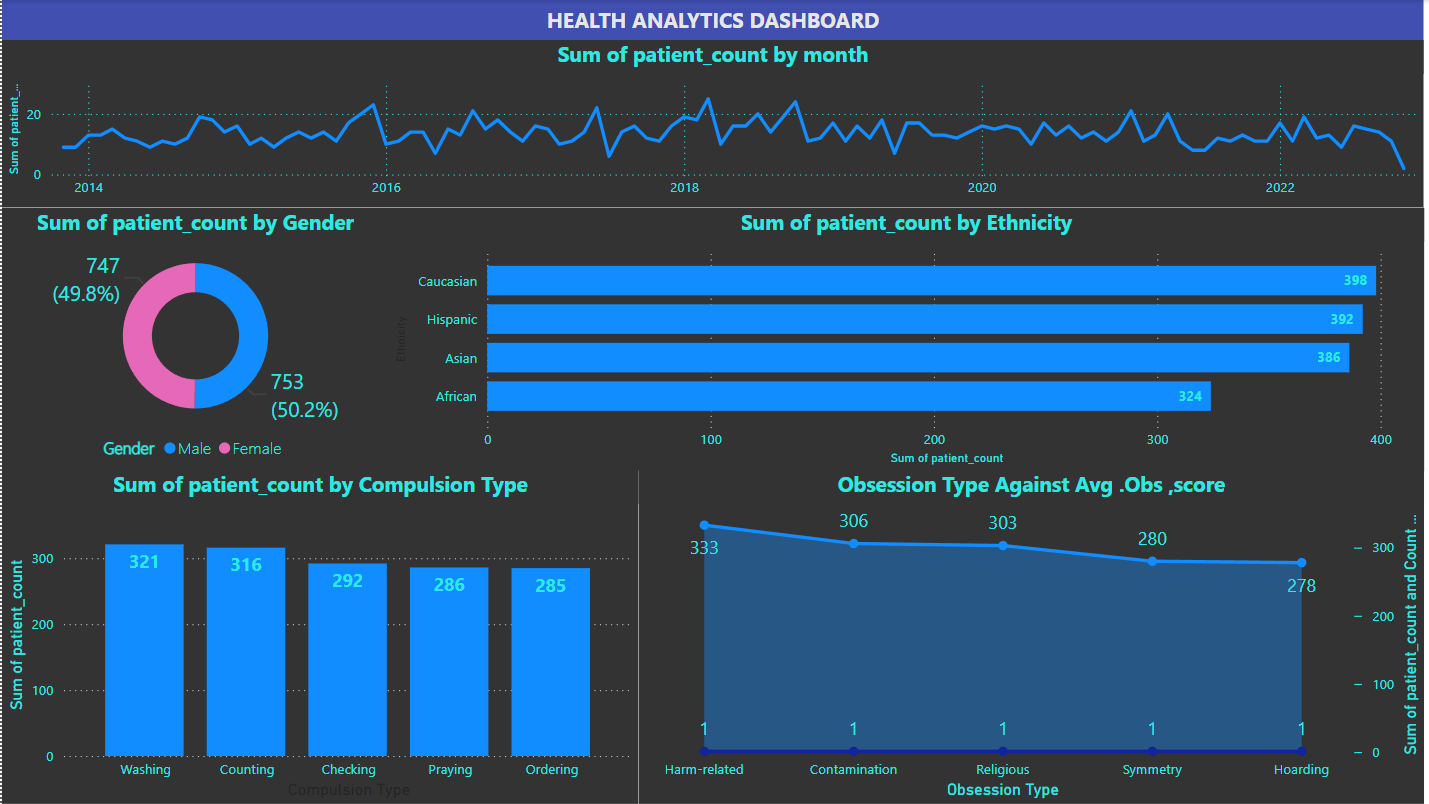

The dashboard page shown, as its layout file describes it:
{"tool":"powerbi","page":{"name":"Page 1","canvas":[1280,720],"ordinal":0},"visuals":[{"type":"textbox","box":[0,0,1273.4,35.8],"z":0},{"type":"lineChart","fields":{"Y":["Sum(diagnosis mom.patient_count)"],"Category":["diagnosis mom.month"]},"box":[0,35.8,1273.4,150.4],"z":1000},{"type":"donutChart","fields":{"Category":["gender.Gender"],"Y":["Sum(gender.patient_count)"]},"box":[0,186.3,346.6,234.6],"z":2000},{"type":"clusteredBarChart","fields":{"Category":["ethnicity.Ethnicity"],"Y":["Sum(ethnicity.patient_count)"]},"box":[346.6,186.3,926.9,234.6],"z":3000},{"type":"columnChart","fields":{"Category":["complusion1.Compulsion Type"],"Y":["Sum(complusion1.patient_count)"]},"box":[0,420.9,570.4,299.1],"z":4000},{"type":"lineChart","title":"Obsession Type  Against Avg .Obs ,score","fields":{"Y2":["Sum(obs.patient_count)","CountNonNull(obs.Obsession Type)"],"Category":["obs.Obsession Type"]},"box":[570.4,420.9,703,299.1],"z":5000}]}

Visuals, with their boxes in screenshot pixels (x1, y1, x2, y2), scaled from the page's 1280x720 canvas onto the 1429x804 screenshot:
textbox: (0, 0, 1422, 40)
lineChart - Sum(diagnosis mom.patient_count) x diagnosis mom.month: (0, 40, 1422, 208)
donutChart - gender.Gender x Sum(gender.patient_count): (0, 208, 387, 470)
clusteredBarChart - ethnicity.Ethnicity x Sum(ethnicity.patient_count): (387, 208, 1422, 470)
columnChart - complusion1.Compulsion Type x Sum(complusion1.patient_count): (0, 470, 637, 803)
"Obsession Type  Against Avg .Obs ,score" lineChart: (637, 470, 1422, 803)
